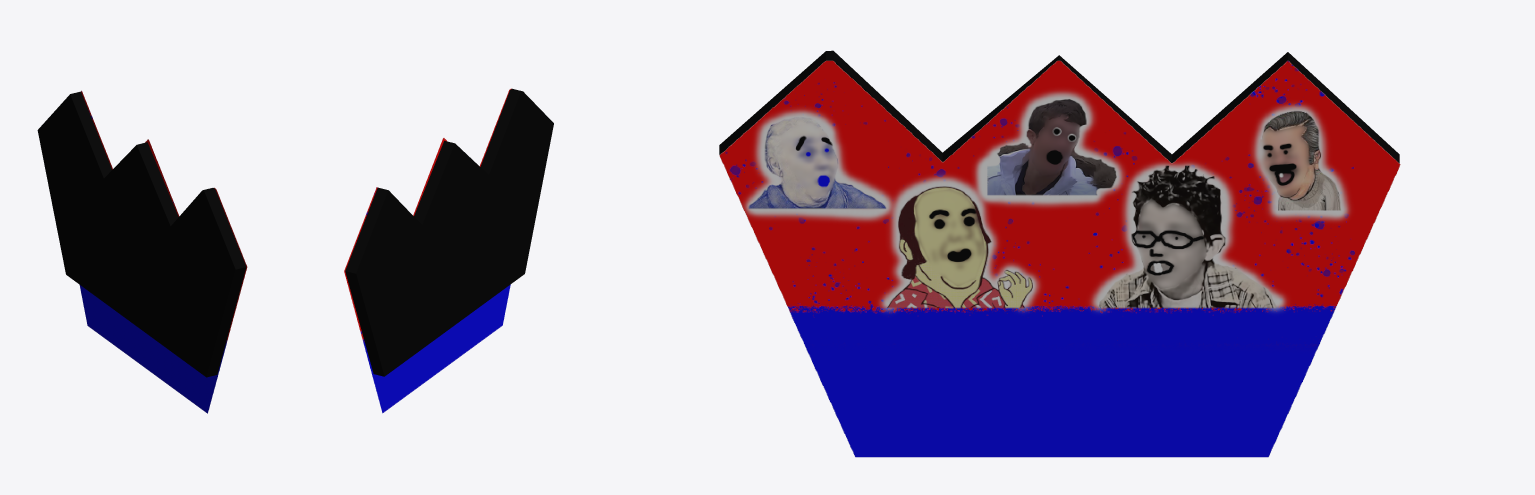
Rendered from EstructuraOlla.fbx.
3 views of the same model, side by side, from view 1: azimuth 30°, elevation 25°; view 2: azimuth 150°, elevation 25°; view 3: azimuth 270°, elevation 25° (orthographic). The views are drawn at different scales.
Parts seen in each view (by area): view 1: Cube.021; view 2: Cube.021; view 3: Cube.021.
Boxes of the visible parts, bbox=[...] form: Cube.021: bbox=[37, 90, 247, 413]; Cube.021: bbox=[344, 88, 553, 413]; Cube.021: bbox=[719, 50, 1400, 457].
Bounding box in the file's own units: 29.98 × 664 × 1180.
